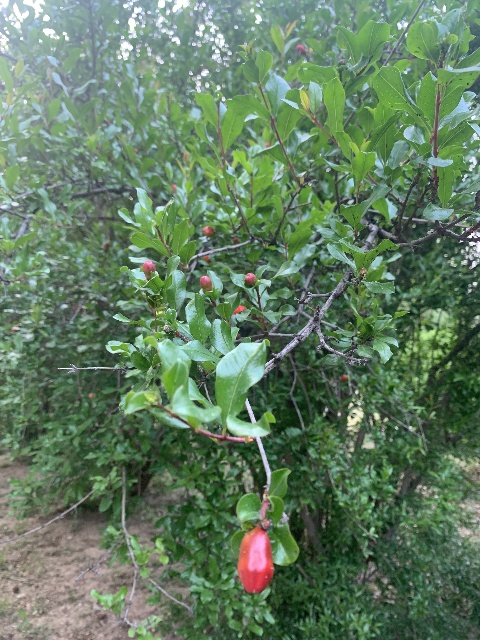bud: (237, 527, 273, 593), (142, 260, 155, 280), (199, 275, 212, 292), (244, 273, 256, 285), (202, 226, 214, 236), (296, 44, 305, 55)
